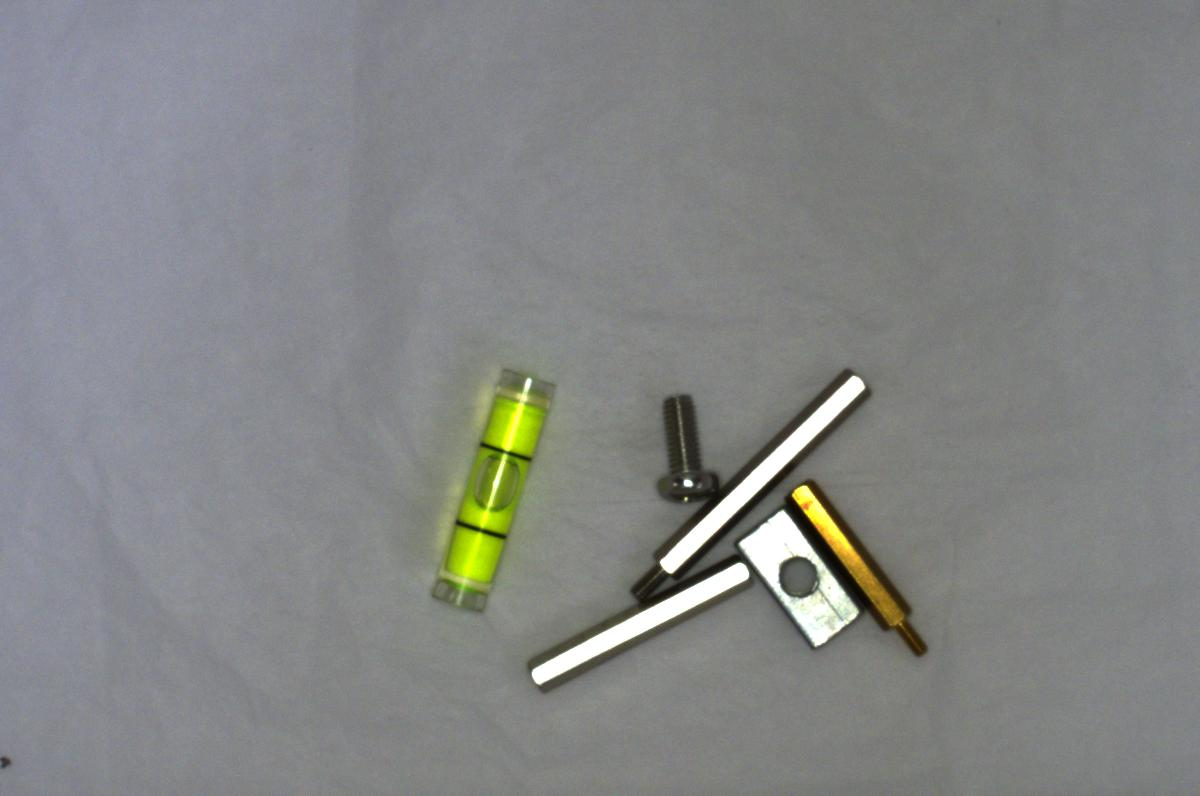Double hexagonal column: (532, 559, 753, 696)
Hexagon pillar: (794, 481, 940, 665)
Hexagonal steel column: (630, 369, 868, 595)
Horizontal bubble: (426, 365, 555, 612)
Rectangular nut: (734, 512, 866, 649)
Round head screw: (631, 376, 717, 505)
